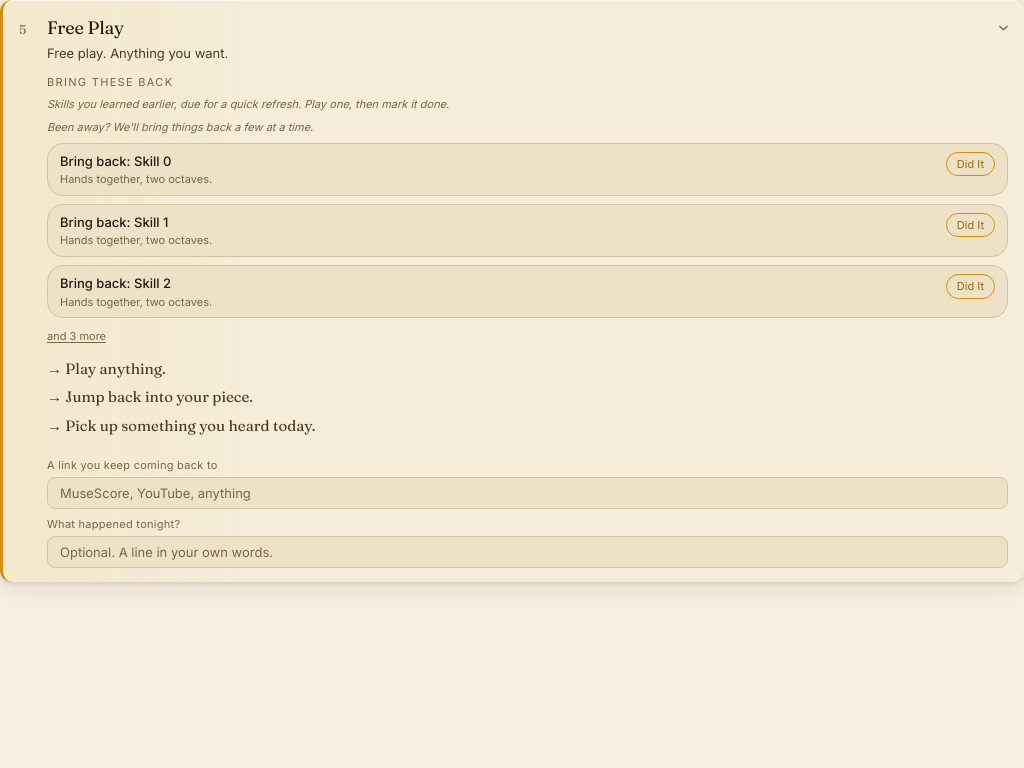
Test: FreeSlot, review triage cap + no-shame framing (R7) › expands to reveal the rest when 'and N more' is clicked
The image size is (1024, 768).
What coordinates should you click on to do the following:
click the button with test id "free-reviews-more"
I would click on:
 (76, 337)
Its box is [47, 329, 106, 344].
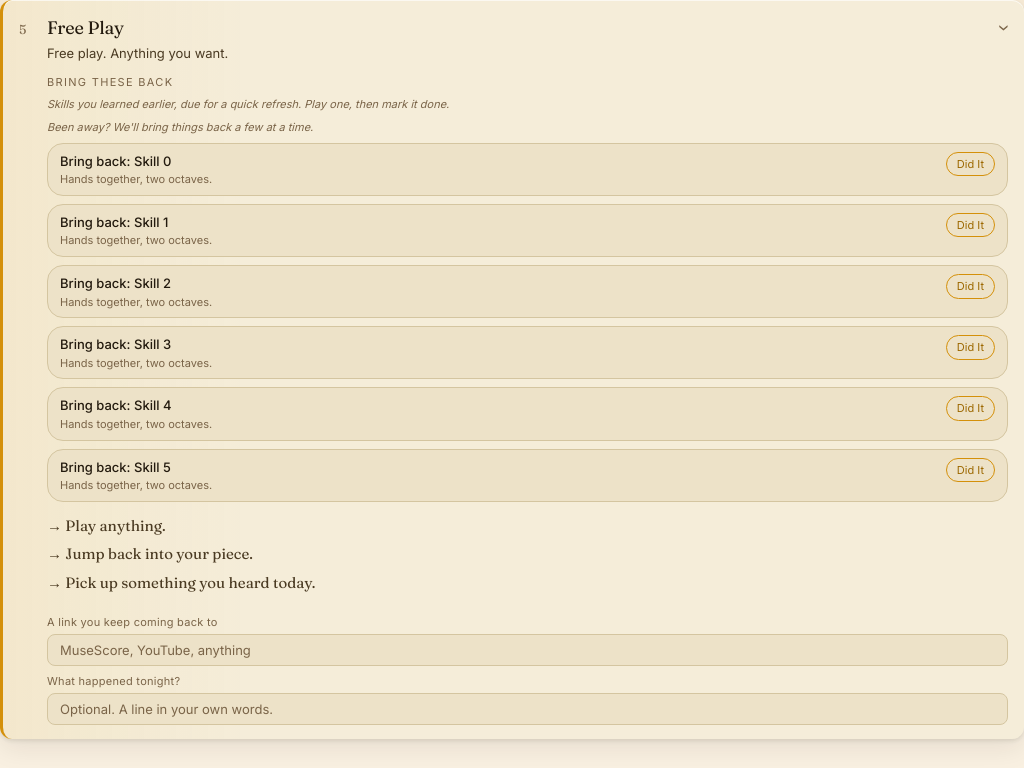
Now the list item with test id "free-review-n5" is shown, box [47, 449, 1008, 502]
Now the button with test id "free-reviews-more" is gone
